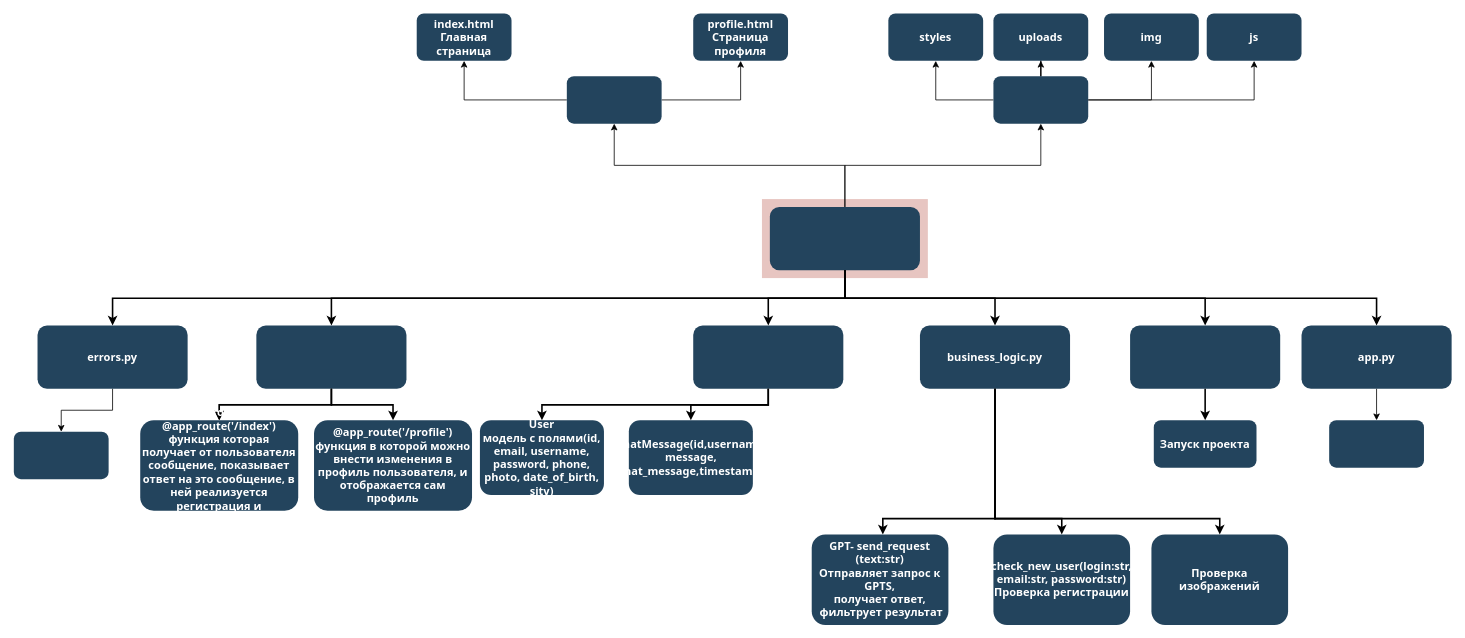
The diagram is 1465 pixels wide and 638 high, and some of its shapes have lost their labels. Each missing label, with the centre of its shape:
controller.py: (x=331, y=356)
main.py: (x=1205, y=356)
models.py: (x=768, y=356)
STAR_POWER: (x=844, y=238)
static: (x=1040, y=99)
templates: (x=613, y=99)
Импорт основных модулей и их настройка: (x=1376, y=443)
Обработка всех возможных ошибок: (x=60, y=455)
